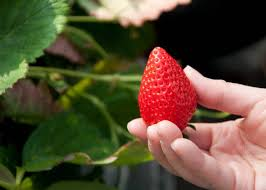ripe: (135, 44, 202, 143)
